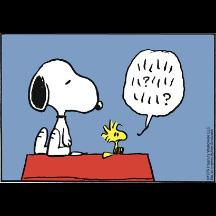snoopy: (27, 59, 103, 158)
